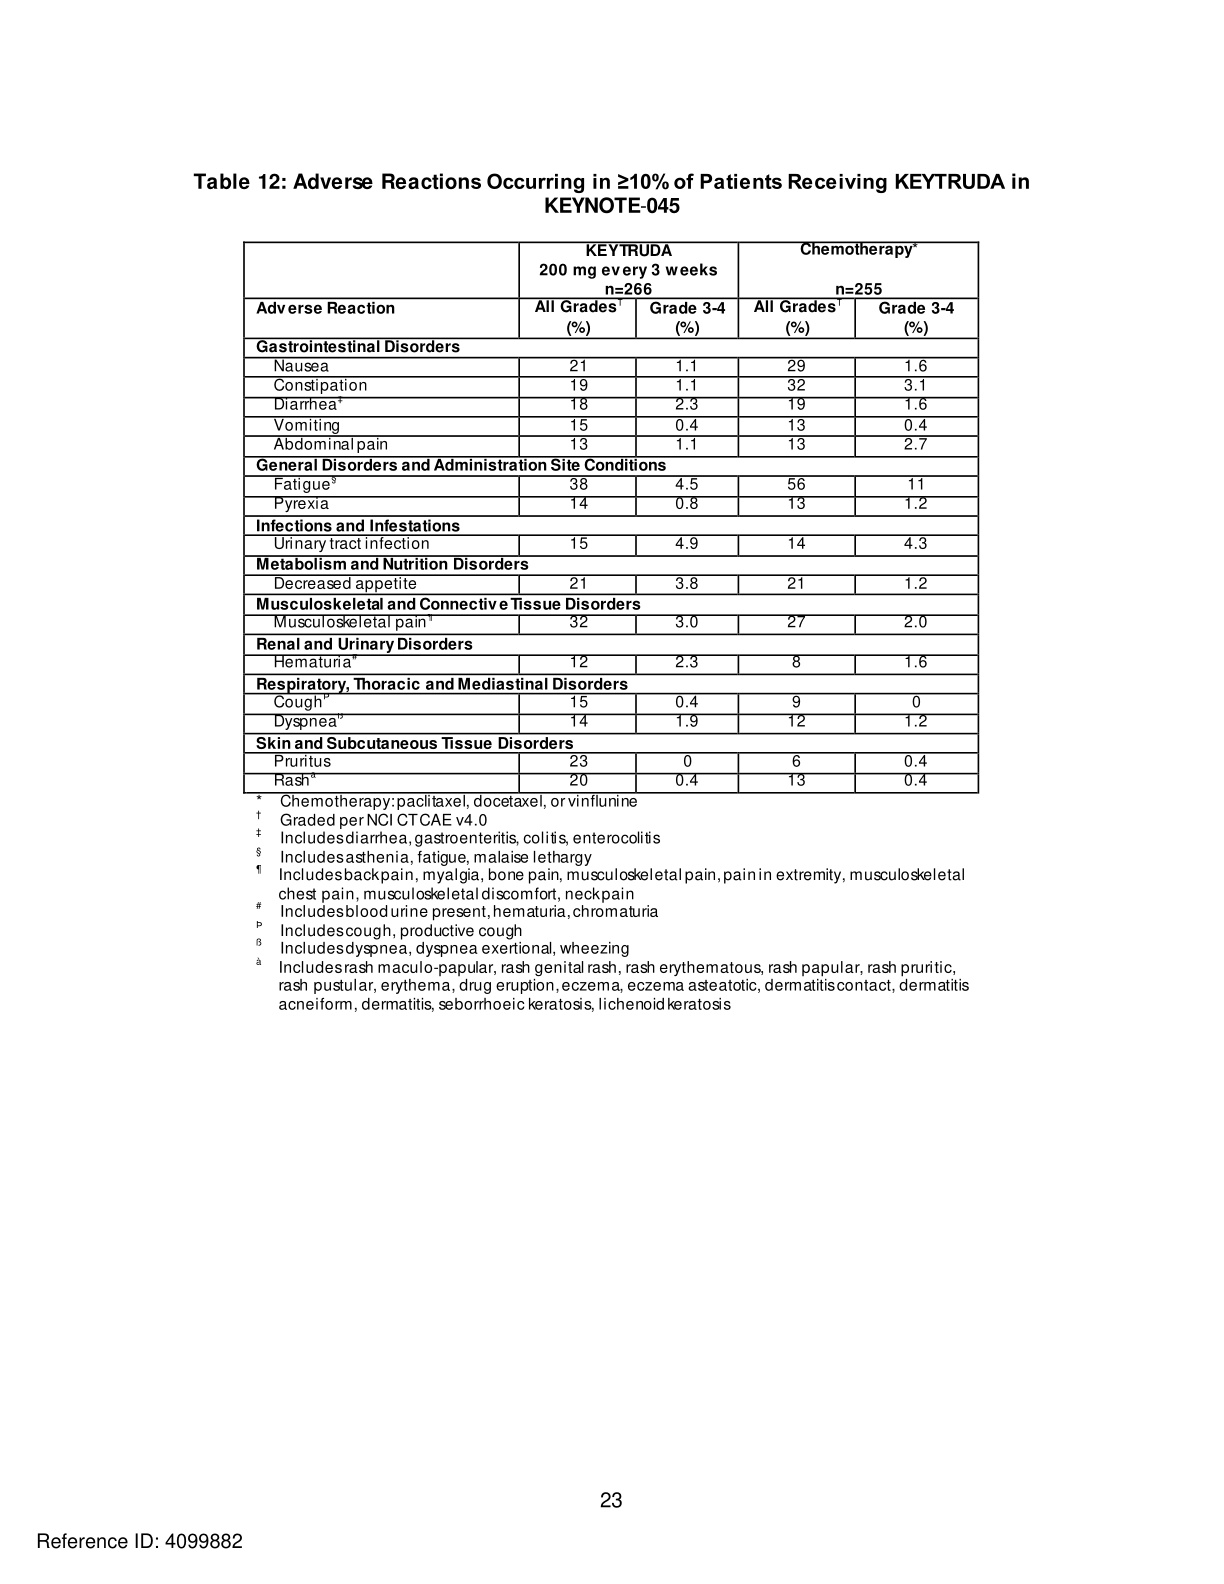merged_cells: (242, 240, 980, 795)
